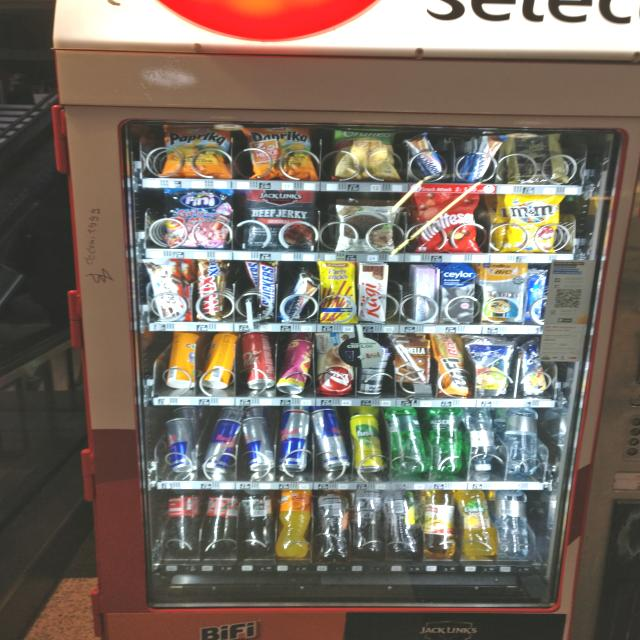berger_schoggitoertli____: (330, 198, 396, 252)
bifi_roll__50__4251097402635: (430, 332, 472, 394)
bueno___43__4008400320328: (145, 256, 194, 321)
c-swiss_dosenabisicetea__33__9120025930135: (163, 331, 200, 390), (201, 332, 237, 392)
caprisun_multivitamin__20__4000177605004: (464, 338, 514, 395), (516, 338, 554, 397)
coke__dose_33__54491472: (239, 331, 276, 391)
coke__flasche_50__54491472: (202, 488, 240, 557), (166, 488, 203, 554)
coke_zero_flasche_50__5449000131836: (243, 489, 279, 554)
comella_schokodrink__33__7613100037253: (392, 340, 432, 392)
fanta___50__40822938: (278, 488, 316, 560)
fini_galaxymix_packung_100_1_8410525150364: (167, 187, 230, 251)
fuse_lemon__50__5449000235947: (385, 489, 426, 559)
fuse_lemon_dose_33__5449000235947: (352, 414, 382, 473)
fuse_peach__50__5449000236623: (317, 488, 354, 562), (354, 488, 387, 557)
jacklinks_beefjerkyorginal__25__4047751730219: (245, 188, 317, 249)
jlbrichard_gauffrechoko__90__5410495002079: (500, 131, 569, 183)
kagi___50__7610046000259: (358, 262, 388, 323)
knoppers_riegel____4035800488808: (405, 132, 448, 179), (278, 276, 318, 322), (468, 133, 500, 183)
malburner_partysticks__40__7610200279682: (317, 260, 359, 322)
maltesers___100__5000159023061: (410, 189, 482, 251)
mnms_gelb__45__40111445: (504, 194, 562, 252)
ramseier_schorle__50__7610057012456: (423, 489, 458, 559)
redbull___33__90162909: (313, 408, 355, 471), (276, 408, 316, 472), (201, 417, 241, 477), (241, 415, 276, 469), (162, 417, 196, 471)
snickers___50__5000159461122: (255, 259, 277, 320)
tiki_himbeerbrause_dose_33_1_: (276, 338, 310, 392)
twix___50__5000159459228: (196, 259, 228, 321)
valser_classic__50__76404160: (385, 403, 429, 472), (430, 404, 469, 476)
valser_still__50__7610335002575: (505, 405, 539, 476), (466, 406, 502, 472), (498, 489, 530, 561)
volvic_pinapple__50__305764335648: (456, 487, 500, 559)
zweifel_graneochilli__100__7610095184009: (329, 124, 399, 180)
zweifel_paprika__90__7610095013002: (158, 120, 234, 180), (242, 124, 320, 178)
